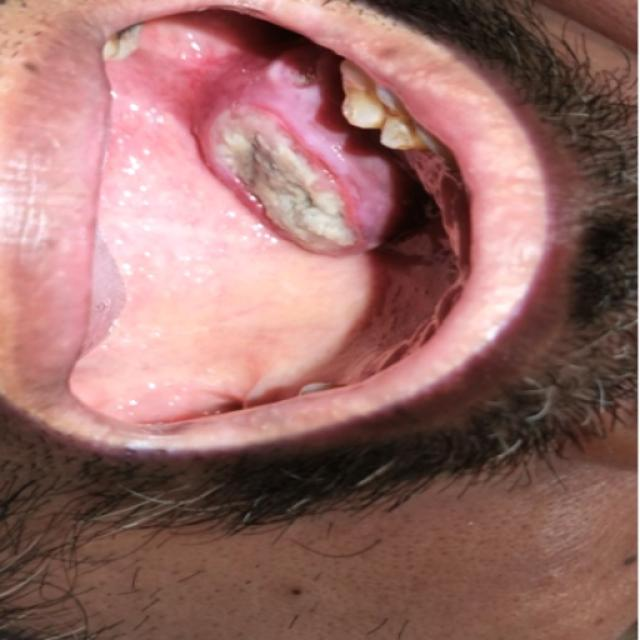cancer-detection: (170, 47, 411, 265)
processing_area: (70, 26, 468, 423)
